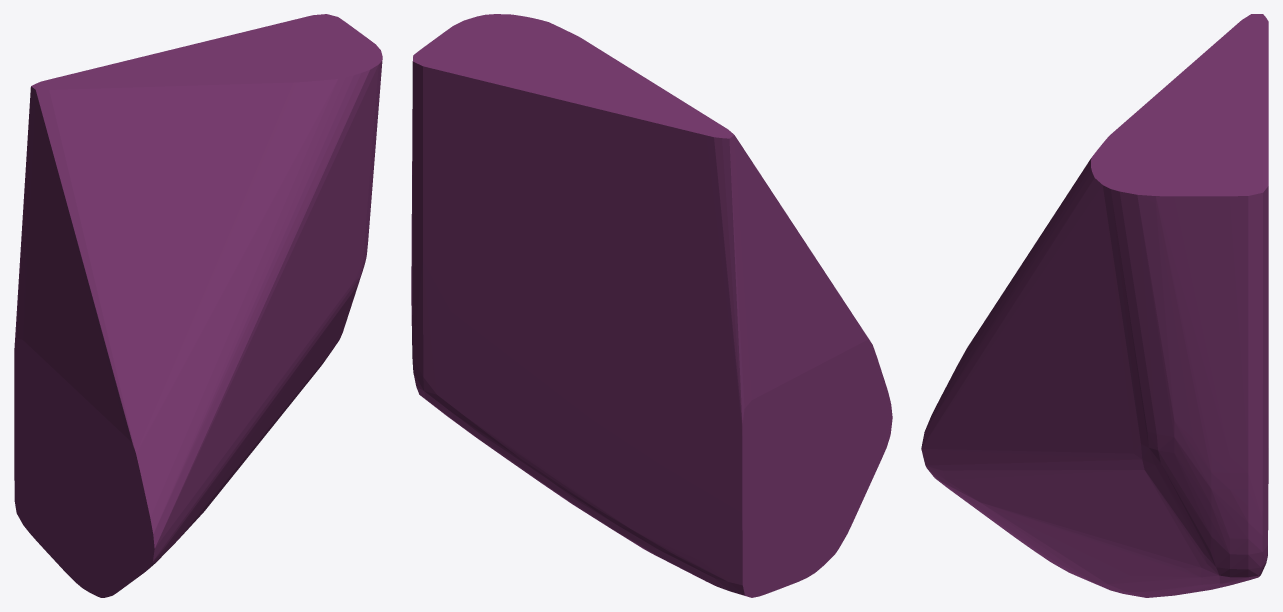
File: left_palm_part_28.obj
3 renders of one model, left to right at view 1: azimuth 30°, elevation 25°; view 2: azimuth 150°, elevation 25°; view 3: azimuth 270°, elevation 25°, orthographic. The views are drawn at different scales.
Size of the model in its own units: 14.81 by 20.06 by 11.33.
